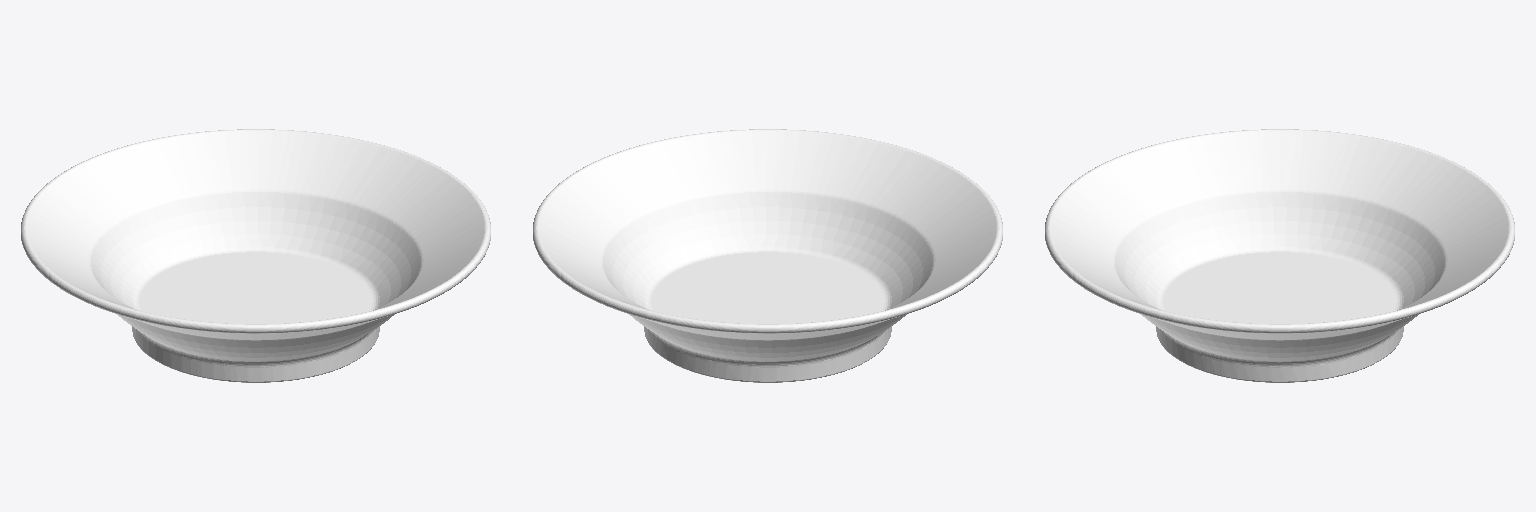
URDF robot description (plate.urdf):
<?xml version="0.0" ?>
<robot name="plate.urdf">
    <link name="base_link">
        <contact>
            <lateral_friction value="0.15"/>
            <rolling_friction value="0.0001"/>
            <inertia_scaling value="3.0"/>
        </contact>
        <inertial>
            <origin rpy="0 0 0" xyz="0 0 0"/>
            <mass value="10"/>
            <inertia ixx="1" ixy="0" ixz="0" iyy="1" iyz="0" izz="1"/>
        </inertial>

        <visual>
            <origin rpy="0 0 0" xyz="0 0 0"/>
            <geometry>
                <mesh filename="plate.stl"/>
            </geometry>
            <material name="white">
                <color rgba="1 1 1 1"/>
            </material>
        </visual>
        <collision>
            <origin rpy="0 0 0" xyz="0 0 0"/>
            <geometry>
                <mesh filename="plate.stl"/>
            </geometry>
        </collision>
    </link>

    <link name="plate_edge_link">
        <inertial>
            <mass value="0.0"/>
            <origin rpy="0 0 0" xyz="0.0 0.0 0.0"/>
            <inertia ixx="0.0" ixy="0.0" ixz="0.0" iyy="0.0" iyz="0.0" izz="0.0"/>
        </inertial>
        <visual>
            <origin rpy="0 0 0" xyz="0 0 0"/>
            <geometry>
                <sphere radius="0.001"/>
            </geometry>
            <material name="white">
                <color rgba="1.0 1.0 1.0 1.0"/>
            </material>
        </visual>
    </link>
    <joint name="plate_edge_joint" type="fixed">
        <axis xyz="0 0 1"/>
        <origin xyz="0 -0.098 0.04687"/>
        <parent link="base_link"/>
        <child link="plate_edge_link"/>
    </joint>

</robot>

--- What the picture shows (computed from the rendered views, not written in the file) ---
The picture shows the robot from 3 angles, left to right: view 1: azimuth 30°, elevation 25°; view 2: azimuth 150°, elevation 25°; view 3: azimuth 270°, elevation 25°; orthographic projection.
Robot: plate.urdf — 2 links, 1 joints (1 fixed); root link base_link; default pose: every joint at zero.
Visible links, largest first — view 1: base_link; view 2: base_link; view 3: base_link.
Boxes of the visible links, x1=… form: base_link: x1=21, y1=129, x2=490, y2=382; base_link: x1=533, y1=129, x2=1002, y2=382; base_link: x1=1045, y1=129, x2=1514, y2=382.
Bounding box of the posed robot: 0.1999 × 0.2 × 0.0489 m (x, y, z).
1 mesh visuals loaded from 1 distinct referenced files (1 binary STL).